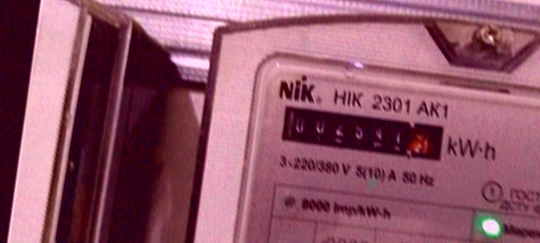0: (290, 110, 306, 133), (311, 111, 326, 134)
1: (390, 123, 403, 144)
2: (331, 115, 346, 136)
4: (371, 119, 385, 142)
5: (350, 117, 365, 140)
6: (410, 138, 423, 154)
screen: (268, 93, 456, 171)
